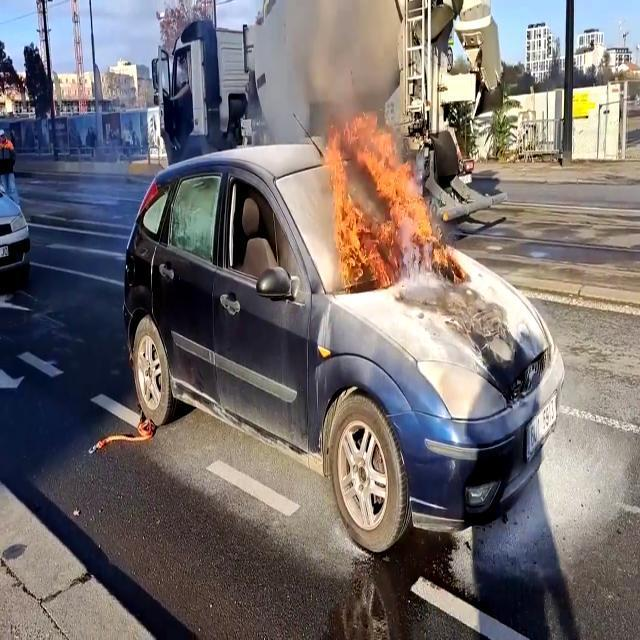Fire: (329, 117, 456, 280)
Smoke: (250, 1, 407, 153)
